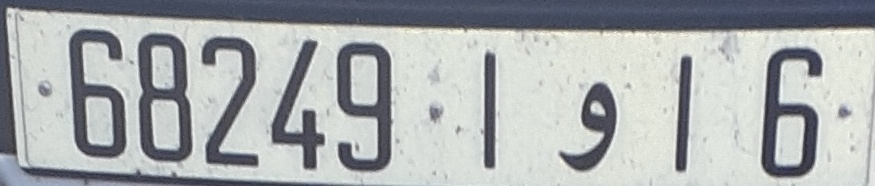2: (197, 35, 265, 172)
4: (270, 36, 328, 172)
6: (66, 26, 130, 162), (759, 46, 824, 179)
8: (136, 31, 194, 167)
9: (333, 39, 397, 175)
waw: (554, 76, 620, 175)
